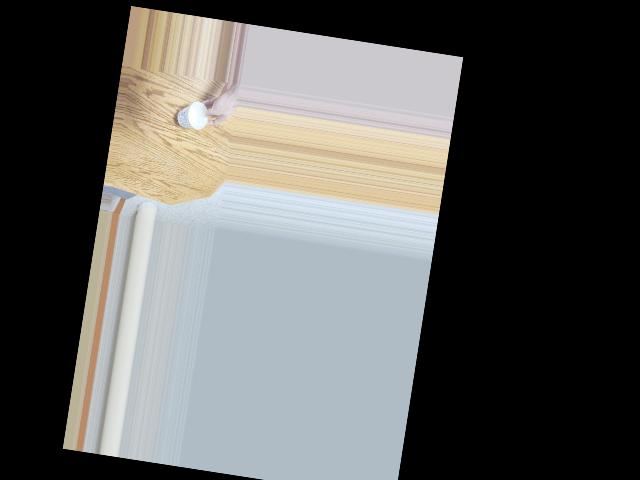cotage: (177, 104, 209, 130)
